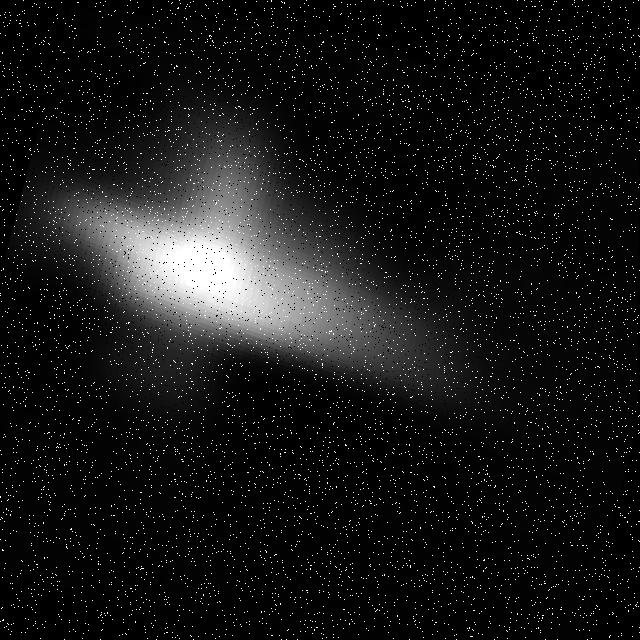person: (1, 58, 568, 486)
